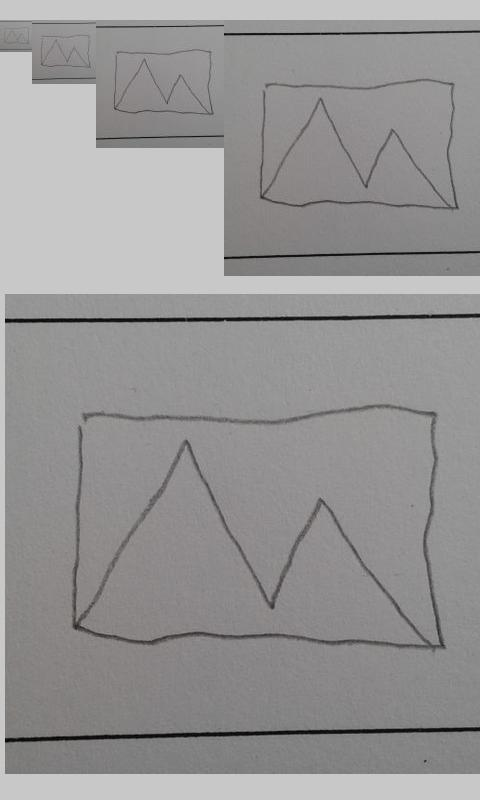image_view: (72, 401, 444, 656), (258, 77, 460, 212), (113, 49, 214, 116), (40, 34, 91, 68), (4, 27, 30, 45)
